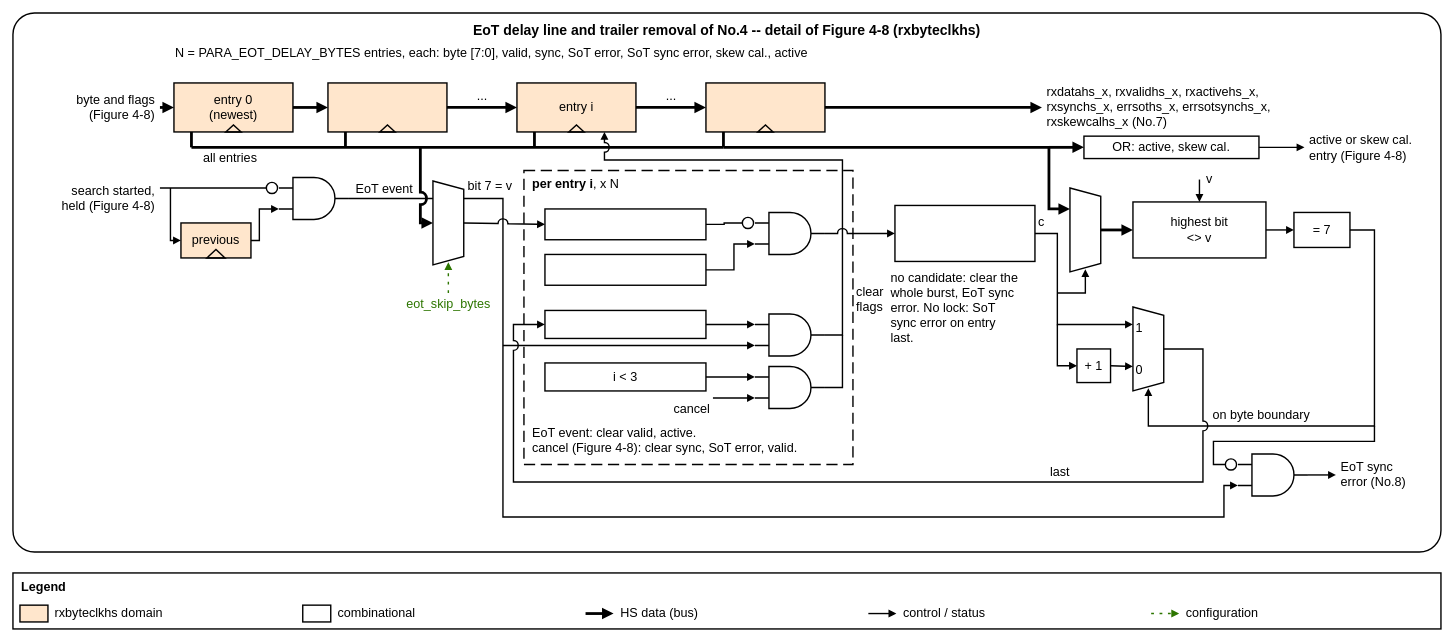
Some shapes in this 1453 by 641 pixel diagram are drawn without their labels. The centre of each missing label's shape, as x and y in pixels:
entry 1: the point at 387,107
entry i = 8 x v: the point at 625,224
entry N-1 (oldest): the point at 765,107
i < last: the point at 625,324
i >= eot_skip_bytes: the point at 625,269
newest candidate: the point at 964,233
